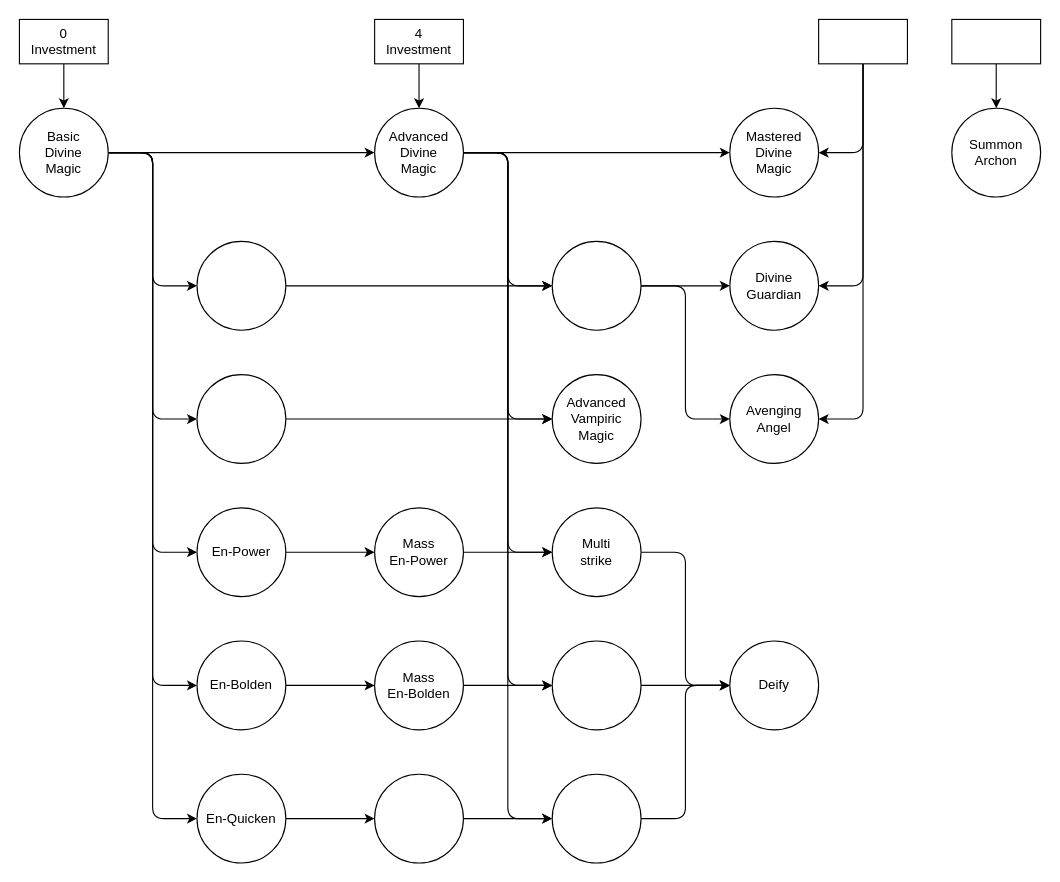
This 1060x882 diagram has some shape labels left out. Each missing label, with the centre of its shape:
"19 Investment" belongs at (x=996, y=41).
"9 Investment" belongs at (x=862, y=41).
"Angelic Summons" belongs at (x=596, y=285).
"Basic Vampiric Magic" belongs at (x=241, y=418).
"Critster" belongs at (x=596, y=818).
"Fae Summons" belongs at (x=241, y=285).
"MassEn-Quicken" belongs at (x=418, y=818).
"Resist" belongs at (x=596, y=685).
